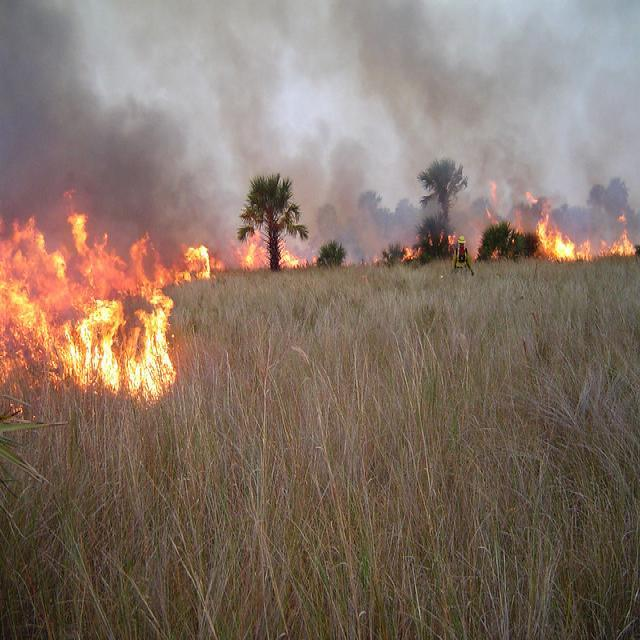Fire: (0, 211, 173, 404), (538, 205, 636, 261), (232, 232, 310, 268), (484, 183, 536, 232), (174, 240, 226, 283), (401, 228, 457, 260)
Smoke: (191, 0, 640, 169), (2, 0, 189, 208), (311, 172, 399, 266)
